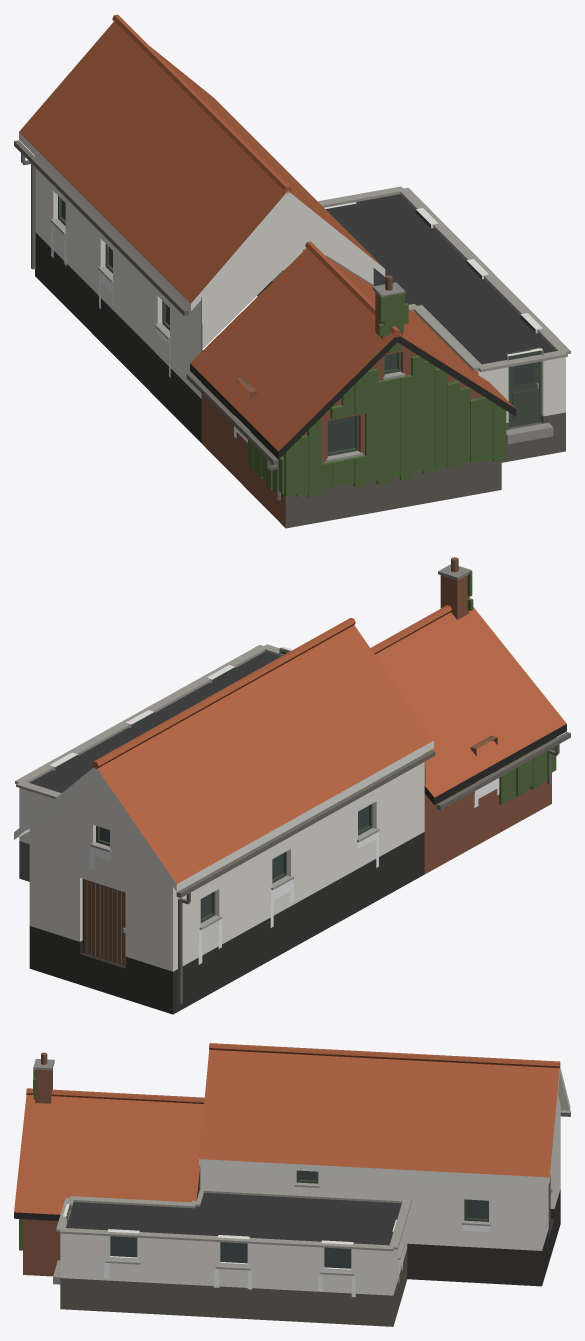
File: vh_ivy_cottage.glb
3 renders of one model, top to bottom at view 1: azimuth 30°, elevation 25°; view 2: azimuth 150°, elevation 25°; view 3: azimuth 270°, elevation 25°, orthographic. The views are drawn at different scales.
Visible parts, largest first — view 1: vh_roof, vh_trim, vh_render, vh_stone, vh_hedge, vh_frames_small, vh_brick, vh_glass, vh_streaks_small; view 2: vh_roof, vh_render, vh_trim, vh_stone, vh_brick, vh_frames_small, vh_hedge, vh_streaks_small, vh_glass; view 3: vh_roof, vh_render, vh_trim, vh_stone, vh_brick, vh_glass, vh_frames_small, vh_streaks_small.
Boxes of the visible parts, <box> form: vh_roof: <box>19,14,515,451</box>; vh_trim: <box>19,132,565,528</box>; vh_render: <box>35,156,565,422</box>; vh_stone: <box>50,186,570,461</box>; vh_hedge: <box>248,292,506,497</box>; vh_frames_small: <box>14,140,541,500</box>; vh_brick: <box>201,292,483,527</box>; vh_glass: <box>61,199,535,452</box>; vh_streaks_small: <box>51,223,326,462</box>; vh_roof: <box>92,597,566,883</box>; vh_render: <box>19,646,424,971</box>; vh_trim: <box>14,649,566,1014</box>; vh_stone: <box>15,557,492,929</box>; vh_brick: <box>424,575,551,874</box>; vh_frames_small: <box>54,647,570,1004</box>; vh_hedge: <box>467,571,556,804</box>; vh_streaks_small: <box>89,778,499,964</box>; vh_glass: <box>55,667,368,918</box>; vh_roof: <box>14,1043,560,1214</box>; vh_render: <box>60,1095,560,1295</box>; vh_trim: <box>14,1067,570,1326</box>; vh_stone: <box>33,1052,554,1284</box>; vh_brick: <box>23,1069,200,1276</box>; vh_glass: <box>110,1170,487,1268</box>; vh_frames_small: <box>66,1111,570,1271</box>; vh_streaks_small: <box>103,1225,490,1297</box>.
Size of the model in its own units: 10.36 by 6.73 by 17.58.
